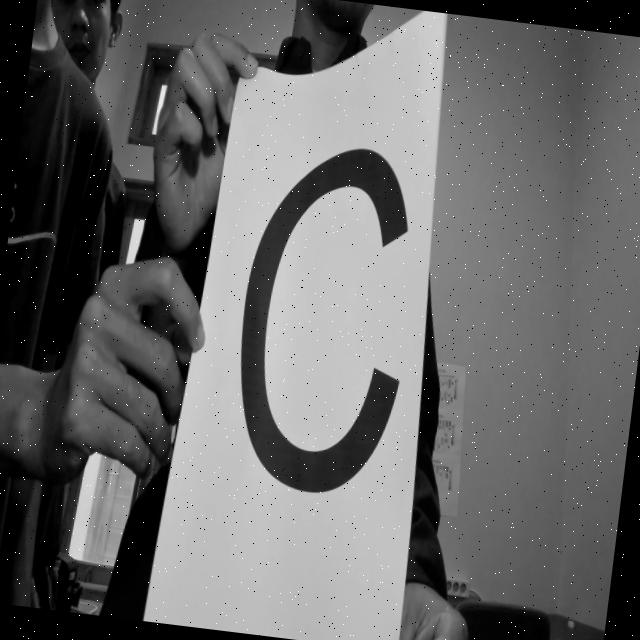c: (219, 122, 432, 510)
